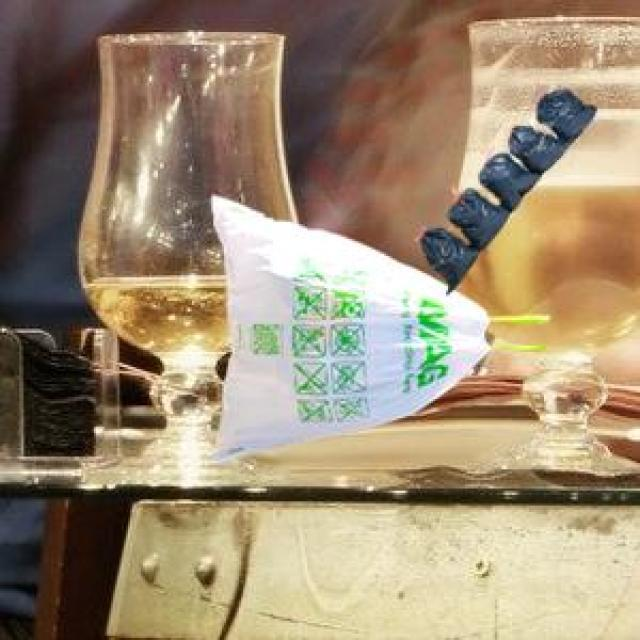miscellaneous trash: (416, 85, 593, 288)
